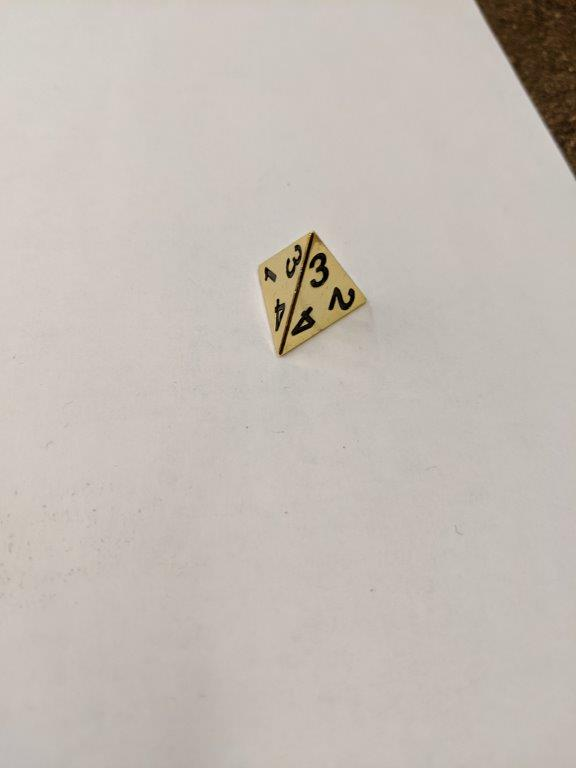d4-3: (253, 229, 367, 360)
